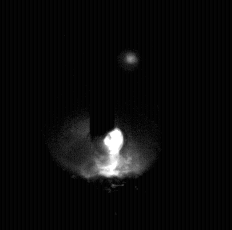arame: (91, 0, 117, 142)
poca: (50, 0, 158, 230)
